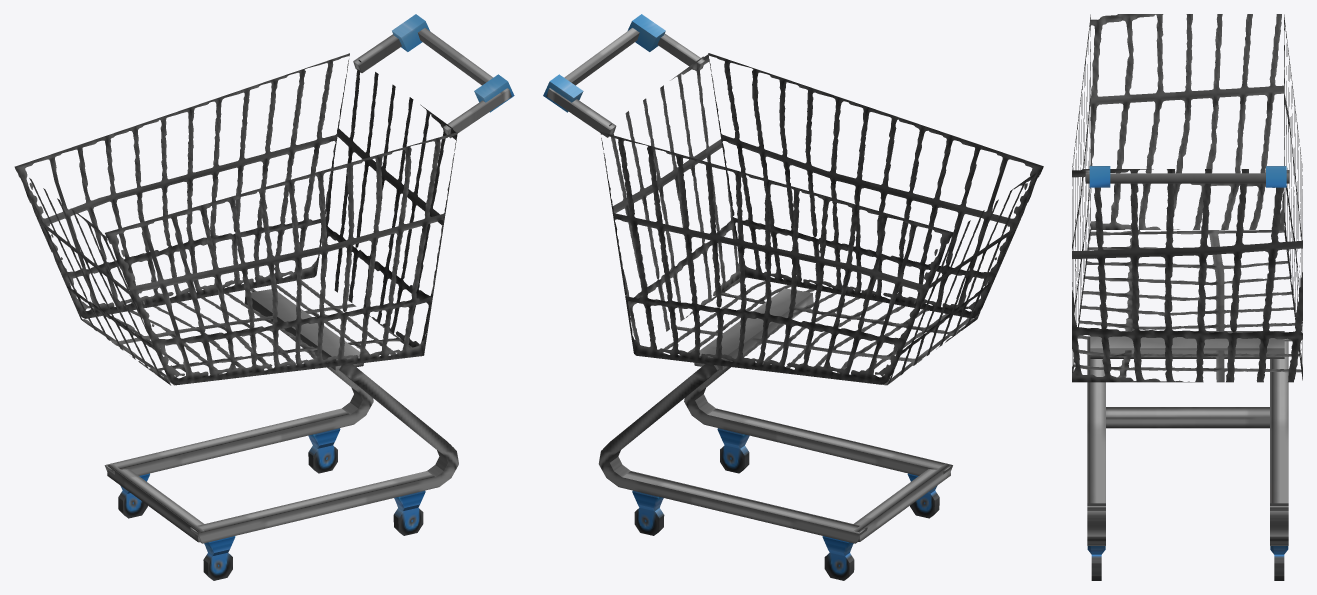
The model's file is trolley.fbx.
3 views of the same model, side by side, from view 1: azimuth 30°, elevation 25°; view 2: azimuth 150°, elevation 25°; view 3: azimuth 270°, elevation 25° (orthographic). The views are drawn at different scales.
Visible parts, largest first — view 1: trolleycart; view 2: trolleycart; view 3: trolleycart.
Part boxes in pixels (left/top/right/bottom): trolleycart: left=14, top=14, right=514, bottom=580; trolleycart: left=543, top=14, right=1043, bottom=580; trolleycart: left=1072, top=14, right=1302, bottom=580.
Bounding box in the file's own units: 13.16 × 13.22 × 6.
